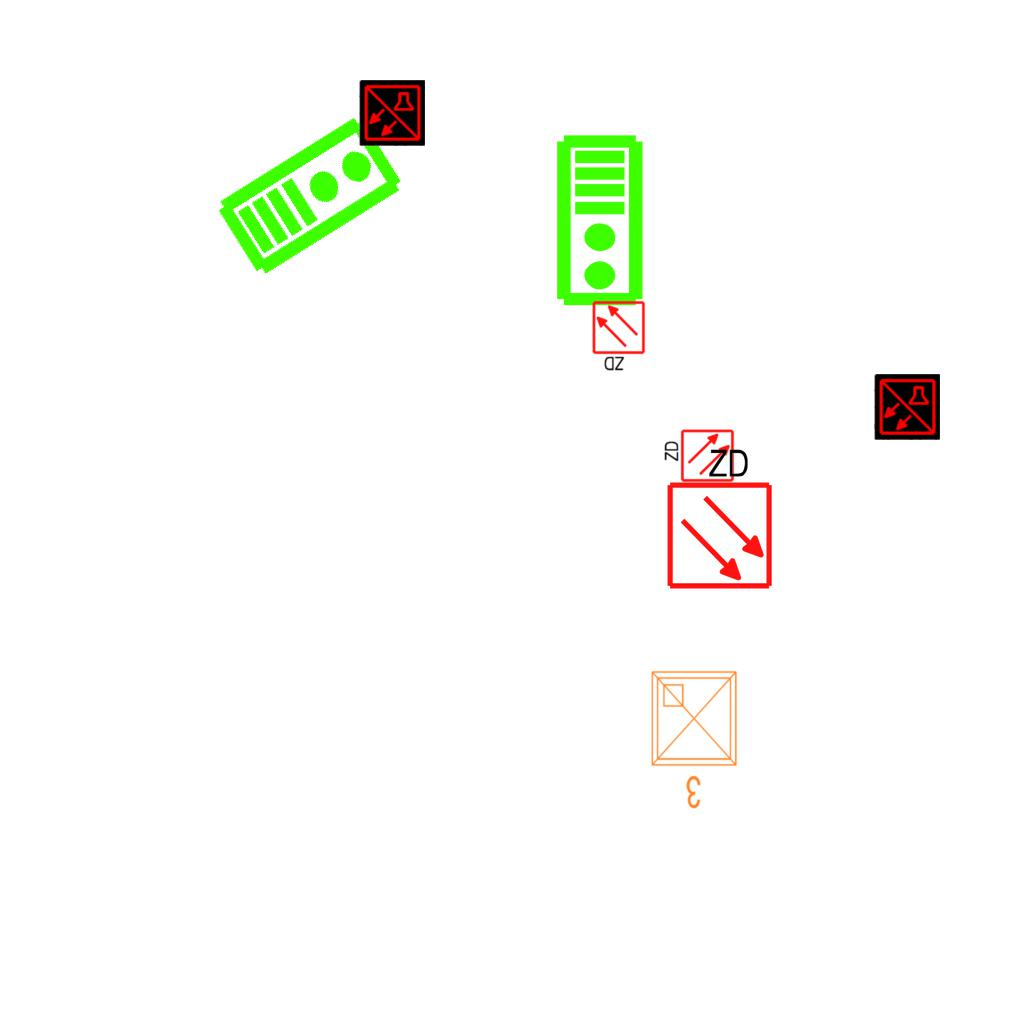Einbaudownlights_LED_Konferenzraeume: (644, 664, 748, 814)
Gegensprechanlage_mit_Video: (209, 107, 410, 281), (554, 133, 649, 309)
OKW_Multisensormelder_(Kombination_optischer_Rauch-Kahlenmonoxid_Waerme-Melder): (874, 374, 940, 440), (359, 80, 425, 146)
ZD_Melder_in_Zwischendecke_mit_Revisionsoeffnung_mind_40_x_40_cm: (661, 442, 775, 591), (661, 428, 735, 485), (591, 300, 648, 374)
